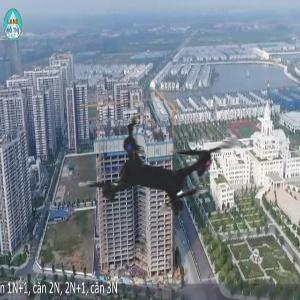drone: (38, 49, 282, 293)
